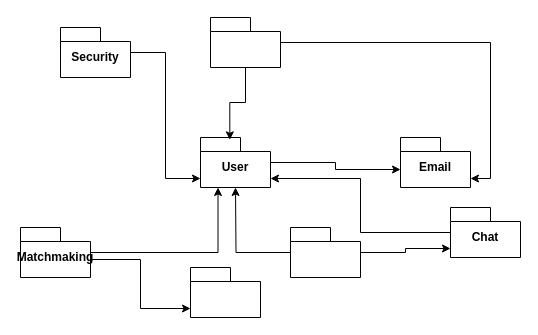
Image size: 538x335. Some labels were removed from this diagram. The shapes that lost their labels are listed below. From the top down, each one's box as (x1, y1, x2, y2) in pixels, then its label:
(210, 16, 280, 68): Friendlist
(290, 226, 360, 278): ChessClub
(190, 266, 260, 318): ChessGame
